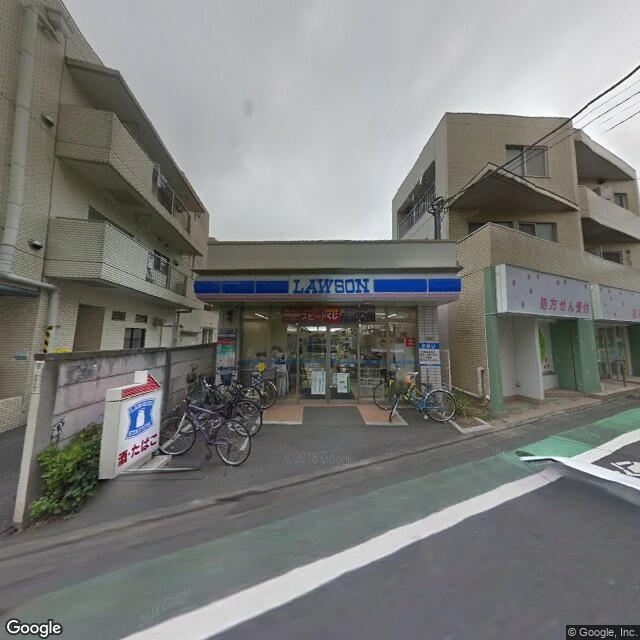lawson: (193, 265, 464, 308), (122, 392, 156, 441)
